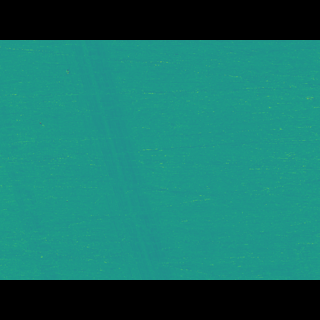Loch: (52, 68, 180, 250), (0, 93, 62, 248)
